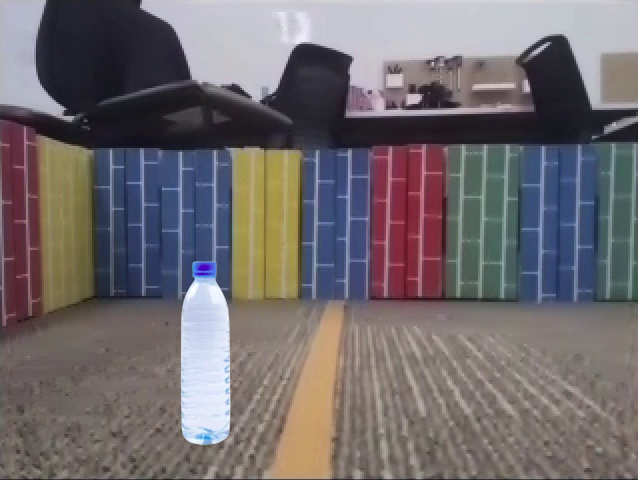cube: (445, 281, 569, 411)
